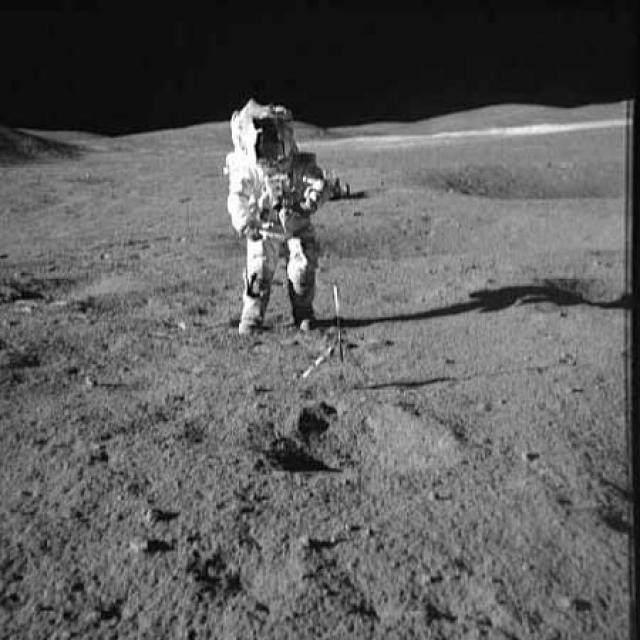crater: (204, 380, 506, 488), (249, 207, 517, 263), (396, 158, 627, 205), (4, 261, 188, 305), (509, 264, 634, 313)
rock: (120, 536, 179, 564), (549, 582, 591, 616), (132, 500, 177, 528), (284, 534, 332, 554), (508, 446, 543, 469), (79, 369, 108, 392)
